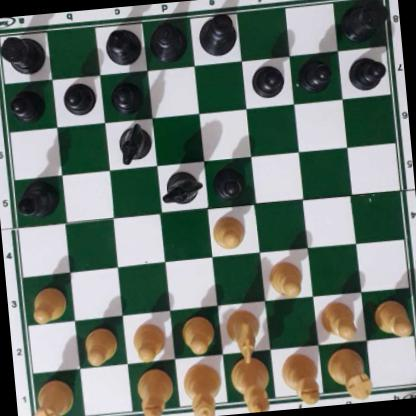black-bishop: (13, 179, 61, 219), (101, 23, 144, 64)
black-king: (197, 12, 238, 59)
black-knight: (115, 121, 151, 163), (160, 169, 201, 205)
black-pawn: (347, 53, 386, 92), (210, 162, 248, 201), (298, 56, 333, 93), (250, 61, 285, 97), (8, 87, 45, 121), (61, 80, 95, 117), (109, 77, 143, 113)
black-queen: (147, 17, 191, 65)
black-rook: (0, 30, 47, 76), (339, 0, 387, 42)
white-bishop: (279, 352, 320, 405), (135, 364, 173, 416)
white-king: (228, 352, 271, 413)
white-knight: (223, 306, 263, 365)
white-pawn: (318, 297, 359, 340), (27, 284, 68, 324), (372, 296, 412, 336), (80, 324, 119, 365), (129, 320, 166, 362), (266, 258, 303, 299), (179, 313, 215, 354), (210, 212, 246, 250)
white-queen: (180, 361, 224, 416)
white-rook: (326, 349, 371, 399), (30, 373, 74, 416)
